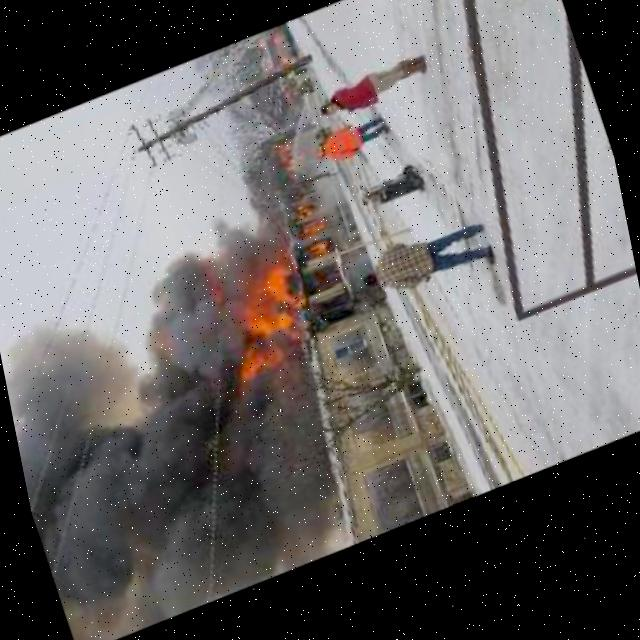fire: (206, 253, 320, 383)
